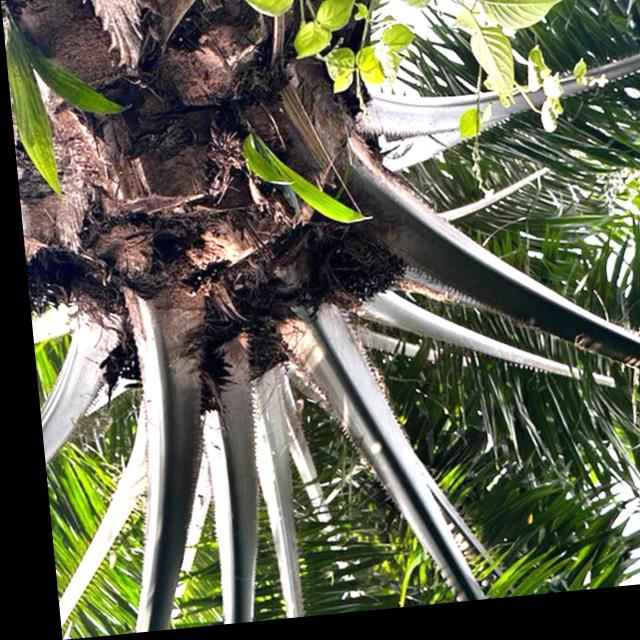unripe: (280, 219, 413, 318)
